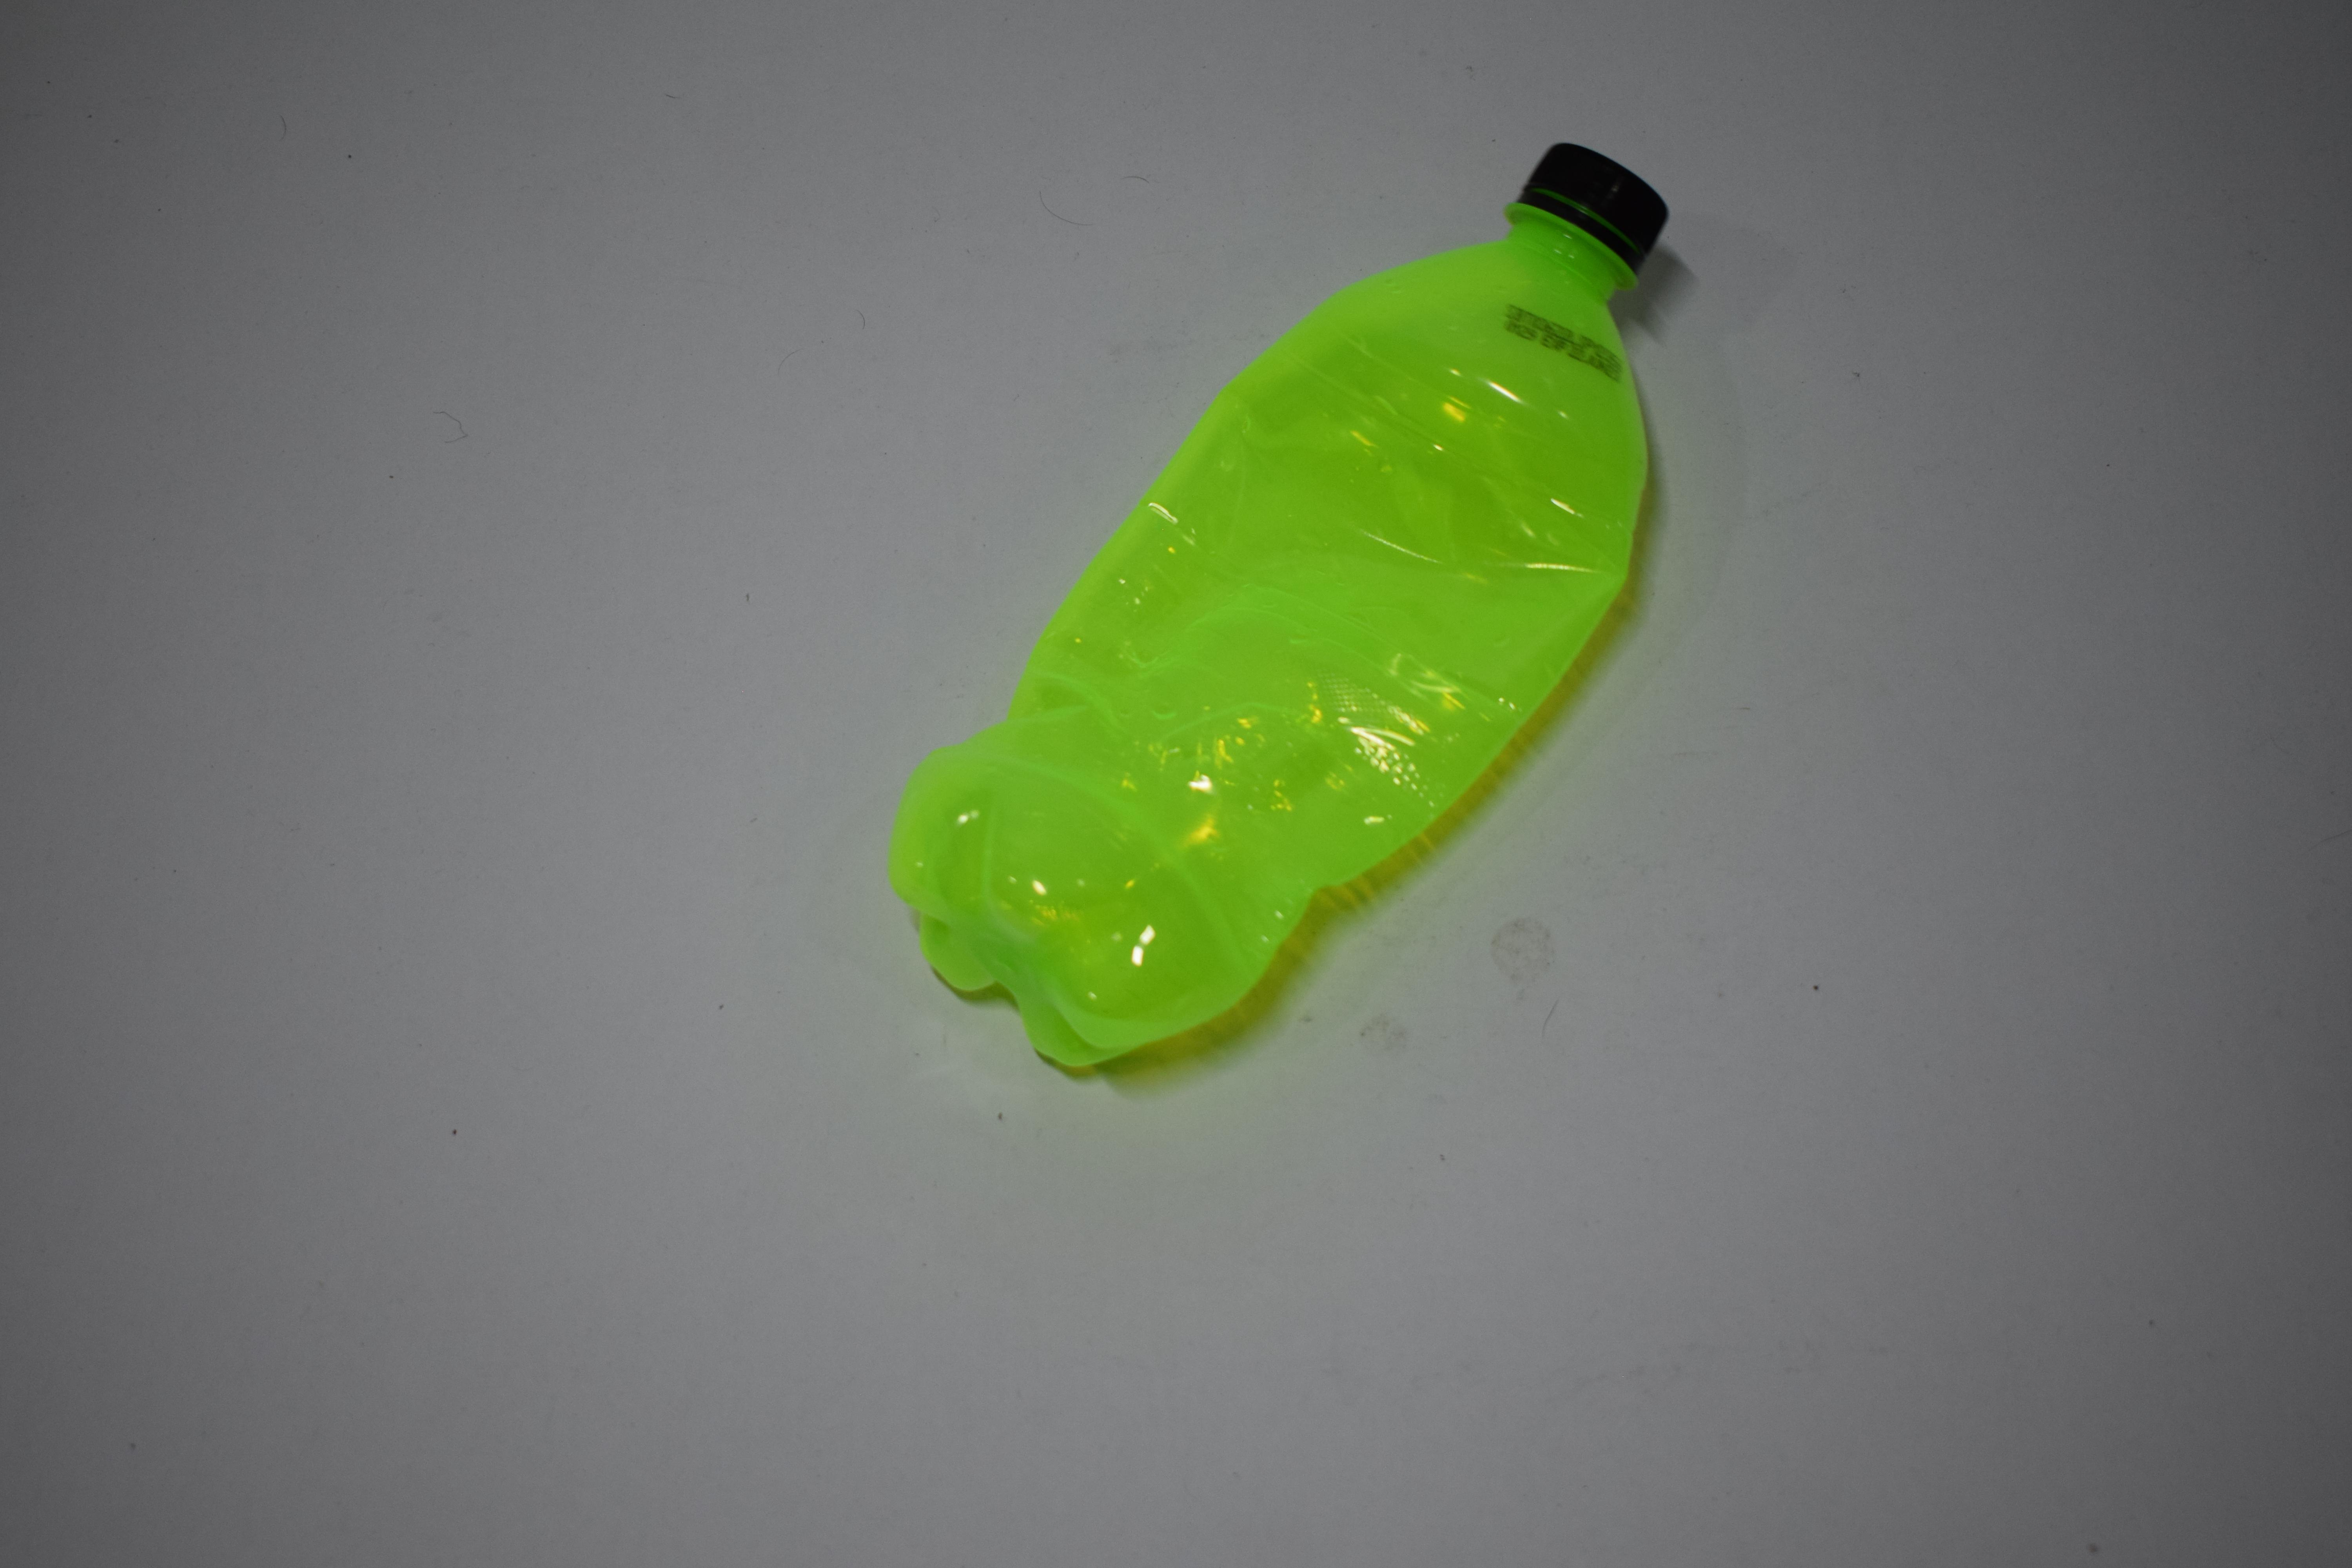bottle: (0, 128, 490, 1085)
